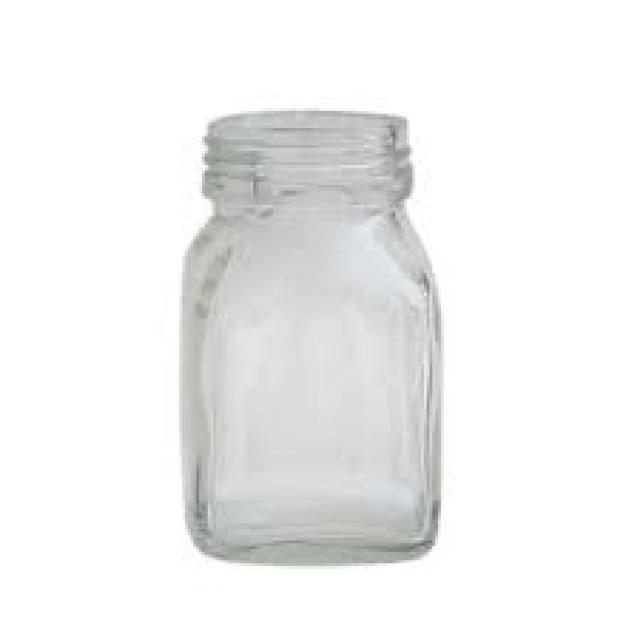glass: (179, 108, 441, 560)
